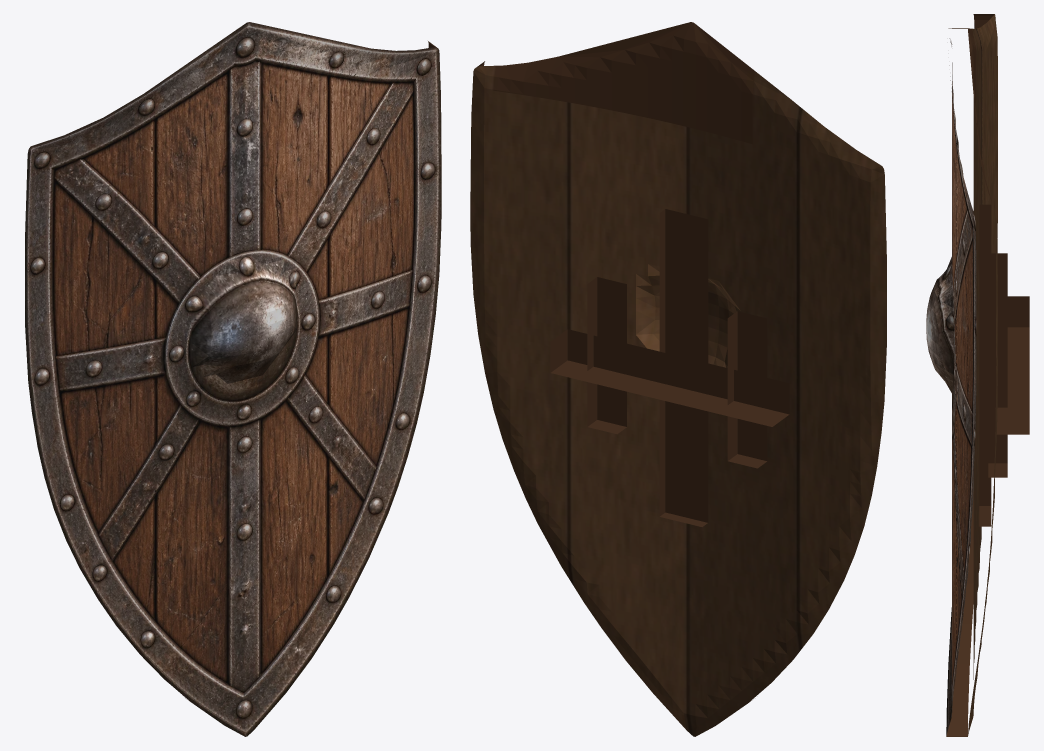
The model's file is shield-wooden.glb.
3 views of the same model, side by side, from view 1: azimuth 30°, elevation 25°; view 2: azimuth 150°, elevation 25°; view 3: azimuth 270°, elevation 25° (orthographic).
Visible parts, largest first — view 1: shield-wooden; view 2: shield-wooden; view 3: shield-wooden.
Part boxes in pixels (bbox=[...]): shield-wooden: bbox=[25, 22, 441, 736]; shield-wooden: bbox=[470, 22, 886, 736]; shield-wooden: bbox=[926, 14, 1029, 736].
Size of the model in its own units: 0.4883 by 0.7995 by 0.1059.
Materials: 1 (1 with a texture image).
